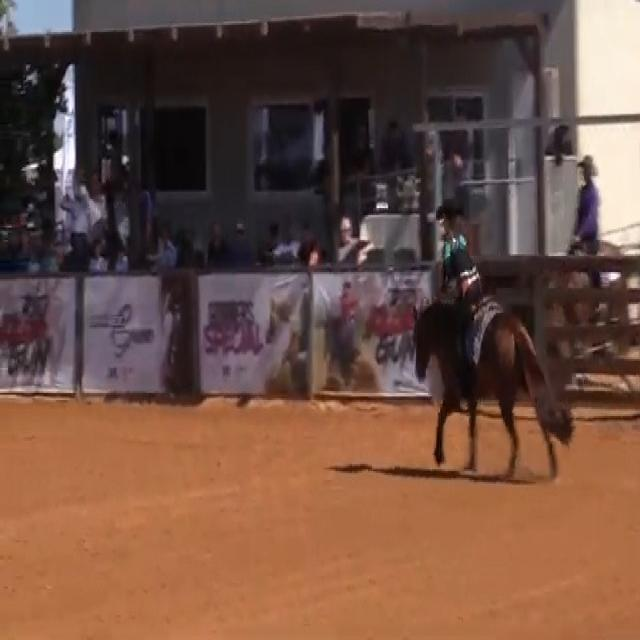horse: (409, 290, 574, 482)
